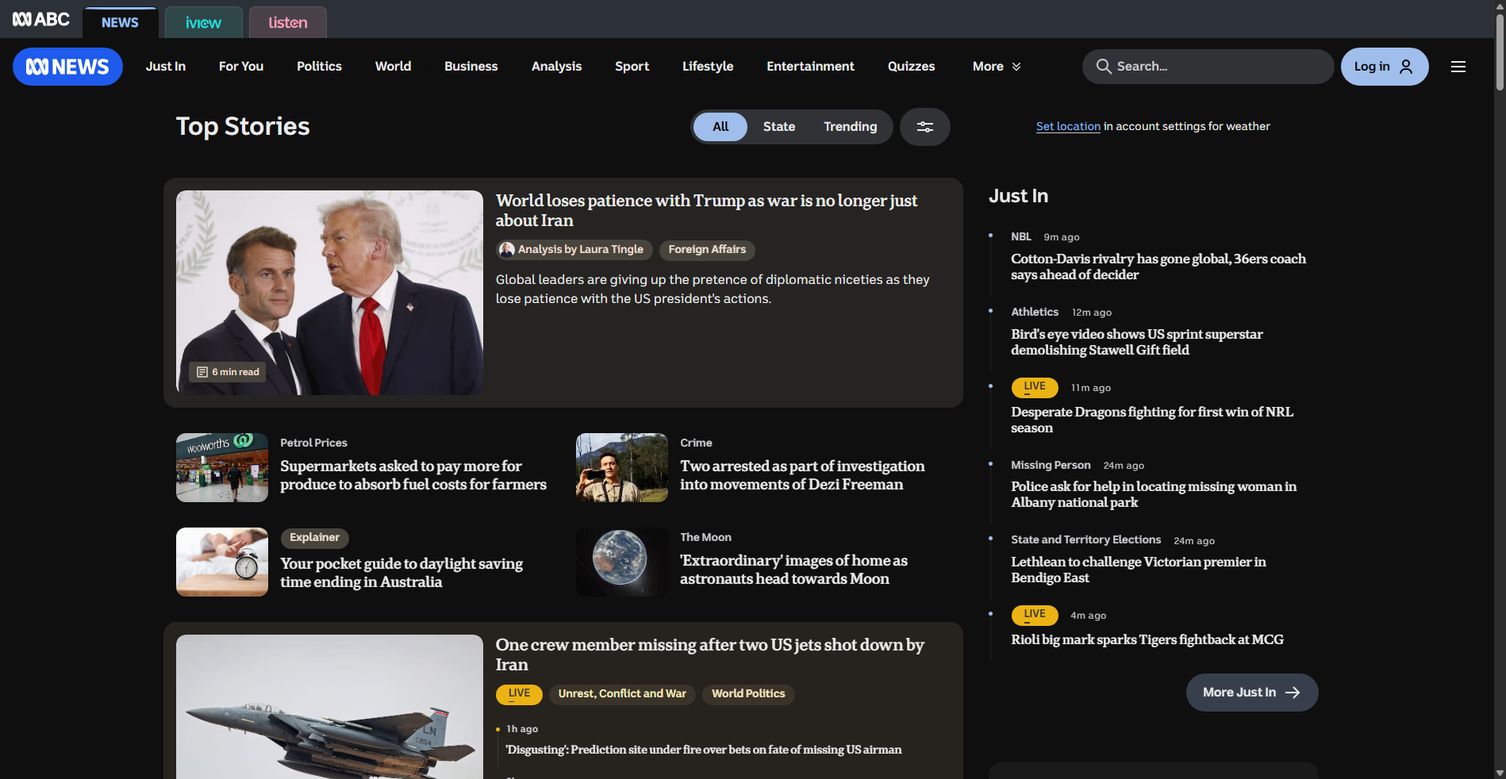general_button: (1186, 673, 1318, 712), (753, 48, 868, 86), (13, 48, 123, 86), (1341, 48, 1429, 86), (431, 48, 511, 86), (958, 48, 1037, 86), (669, 48, 747, 86), (518, 48, 595, 86), (874, 48, 949, 86), (988, 181, 1070, 214), (206, 48, 277, 86), (284, 48, 355, 86), (133, 48, 199, 86), (362, 48, 425, 86), (602, 48, 663, 86), (899, 108, 950, 146), (1435, 48, 1481, 86), (1397, 57, 1416, 76), (1449, 57, 1468, 76), (915, 117, 934, 136), (1283, 683, 1302, 702), (1055, 190, 1069, 205)
general_image: (176, 190, 483, 395), (176, 635, 483, 779), (176, 433, 268, 502), (576, 433, 668, 502), (176, 528, 268, 597), (576, 528, 668, 597)
general_label: (811, 113, 890, 141), (751, 113, 808, 141), (694, 113, 747, 141), (1082, 48, 1082, 49)
general_link: (496, 190, 950, 230), (496, 635, 950, 674), (1011, 251, 1318, 283), (1011, 326, 1318, 358), (1011, 404, 1318, 436), (1011, 479, 1318, 511), (280, 555, 550, 591), (680, 552, 950, 588), (1011, 555, 1318, 586), (280, 458, 550, 493), (680, 458, 950, 493), (176, 433, 268, 502), (576, 433, 668, 502), (176, 528, 268, 597), (576, 528, 668, 597), (506, 743, 902, 757), (1011, 632, 1284, 648), (176, 638, 483, 651), (176, 194, 483, 206), (1008, 531, 1164, 551), (549, 685, 696, 705), (165, 6, 243, 38), (249, 6, 327, 38), (83, 6, 159, 38), (659, 240, 756, 261), (703, 685, 795, 705), (1008, 456, 1094, 476), (277, 434, 350, 455), (677, 528, 735, 549), (1008, 303, 1062, 323), (677, 434, 715, 455), (1036, 121, 1101, 133), (1008, 227, 1034, 248)
general_radio: (720, 127, 721, 127), (779, 127, 780, 127), (850, 127, 851, 127)
icon_menu: (0, 0, 83, 38)
icon_profile: (496, 240, 653, 260), (499, 242, 515, 258)
icon_search: (1082, 49, 1335, 84), (1095, 57, 1114, 76)
